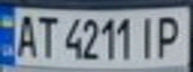1: (115, 14, 136, 61), (100, 15, 118, 61)
2: (78, 15, 100, 61)
4: (60, 14, 84, 61)
A: (12, 10, 39, 58)
I: (136, 12, 160, 60)
P: (151, 11, 187, 60)
T: (33, 12, 60, 60)
